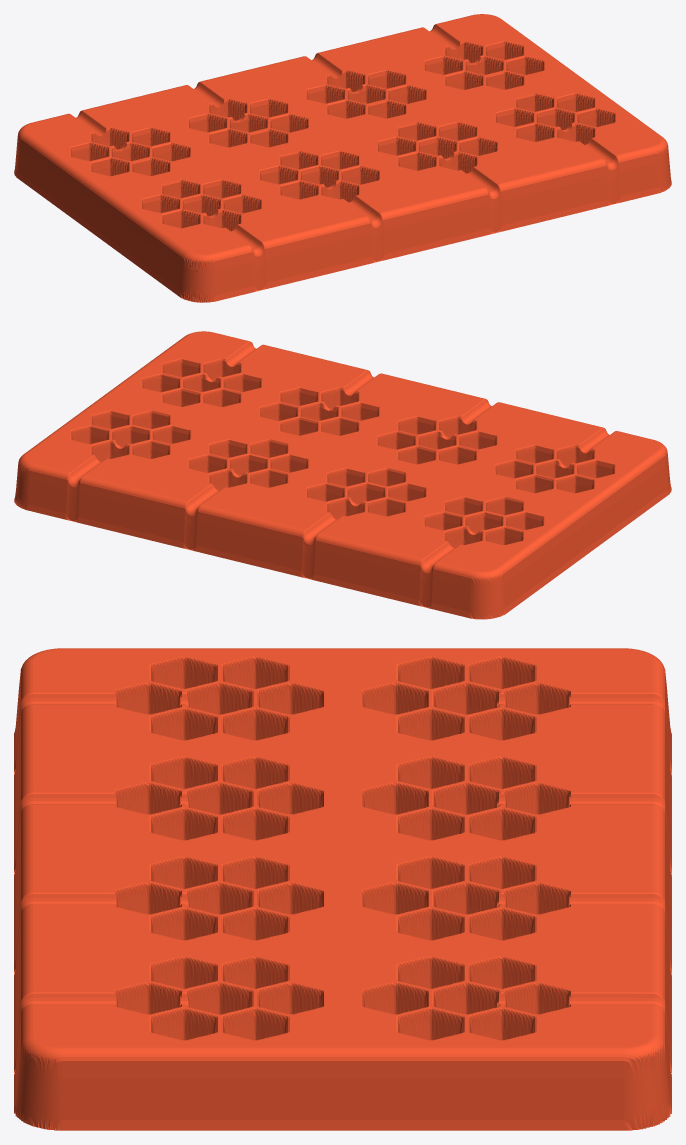
The model's file is mold.glb.
3 views of the same model, one above another, from view 1: azimuth 30°, elevation 25°; view 2: azimuth 150°, elevation 25°; view 3: azimuth 270°, elevation 25° (orthographic). The views are drawn at different scales.
Parts seen in each view (by area): view 1: geometry_0; view 2: geometry_0; view 3: geometry_0.
Boxes of the visible parts, box(x1,y1,x2,y2) form: geometry_0: box(14, 14, 671, 302); geometry_0: box(14, 331, 671, 619); geometry_0: box(14, 648, 671, 1130).
Bounding box in the file's own units: 0.183 × 0.0155 × 0.1229.
